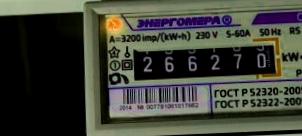0: (254, 51, 267, 68)
2: (139, 54, 153, 72), (208, 52, 220, 70)
6: (162, 54, 175, 72), (185, 54, 198, 72)
7: (231, 51, 243, 69)
screen: (121, 33, 286, 89)
